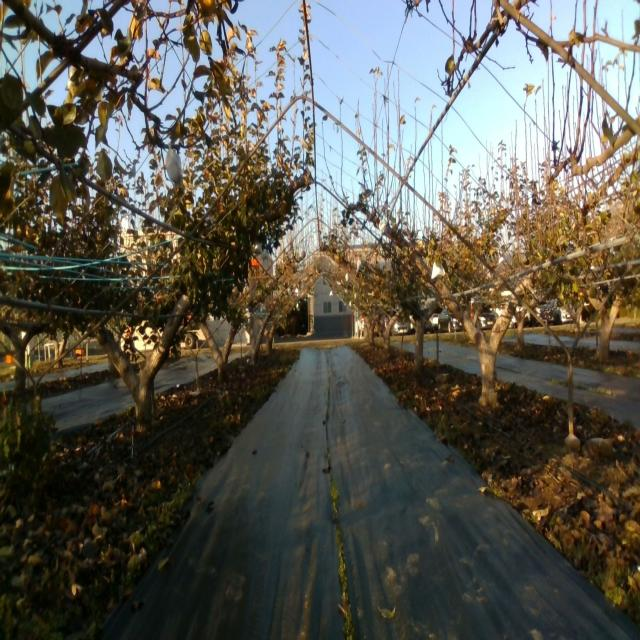pearbags: (164, 140, 183, 190), (431, 261, 446, 280)
